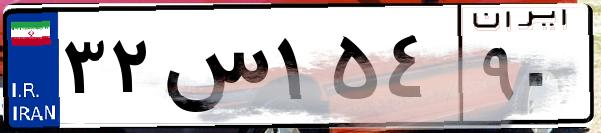0: (525, 38, 570, 115)
1: (270, 28, 330, 110)
2: (110, 28, 158, 98)
3: (57, 26, 110, 100)
4: (385, 28, 445, 110)
5: (330, 28, 385, 110)
9: (475, 38, 525, 113)
س: (158, 20, 270, 120)
